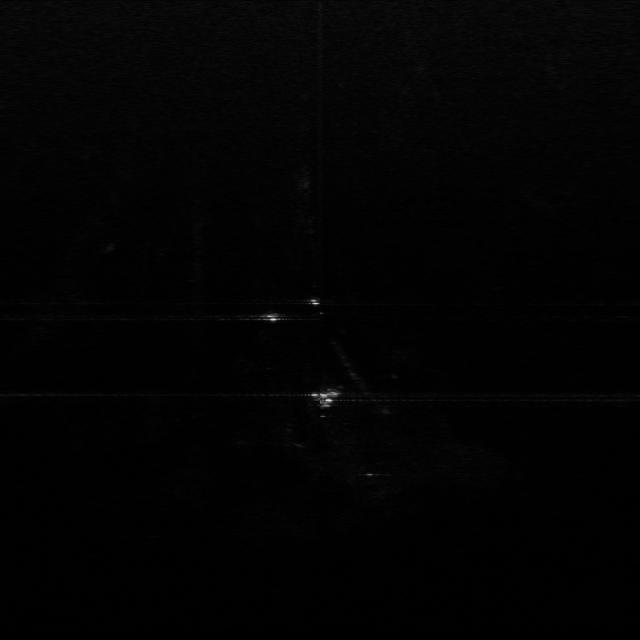rov: (307, 388, 343, 412)
